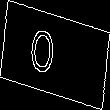O_S: (41, 26, 69, 84)
